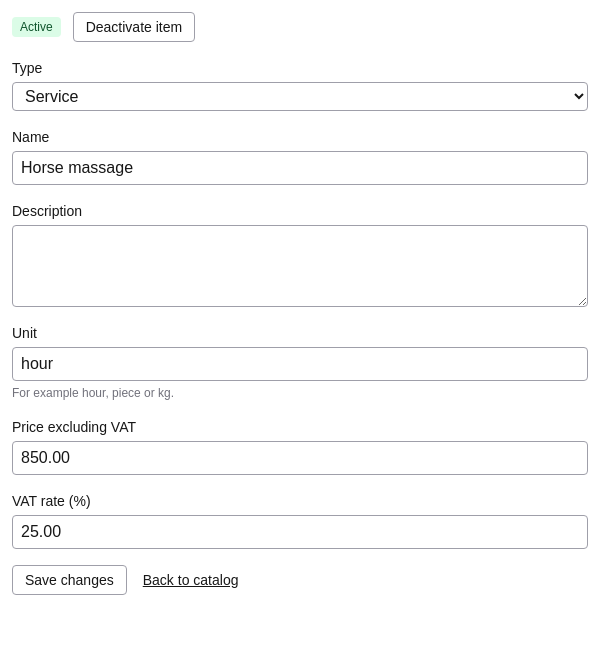
decimals are strings from the input to the request body › shows the saved record exactly as the backend formatted it
The image size is (605, 666).
Replace the text in the field labelled "Price excluding VAT" with "8.2" at (300, 458), box 12,441 -> 588,475
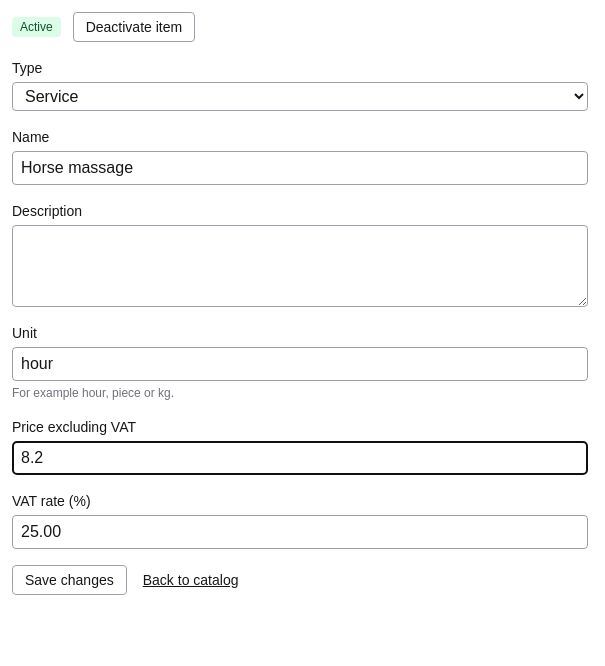
Replace the text in the field labelled "VAT rate (%)" with "0.1" at (300, 532), box 12,515 -> 588,549
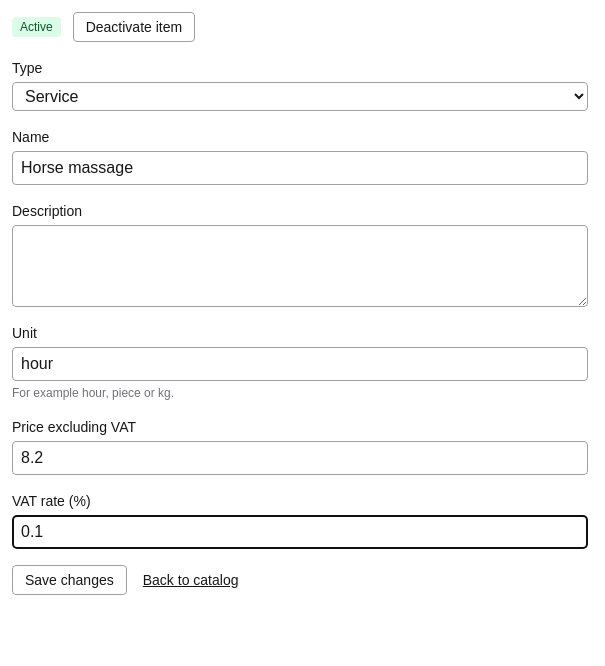
Click the button "Save changes" at (69, 580), box 12,565 -> 127,595
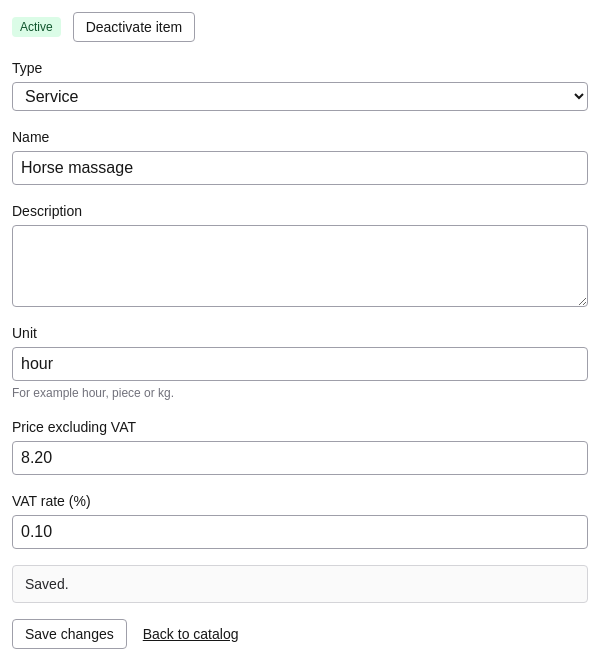
expect the field labelled "Price excluding VAT" holds "8.20": met, box 12,441 -> 588,475
expect the field labelled "VAT rate (%)" holds "0.10": met, box 12,515 -> 588,549
